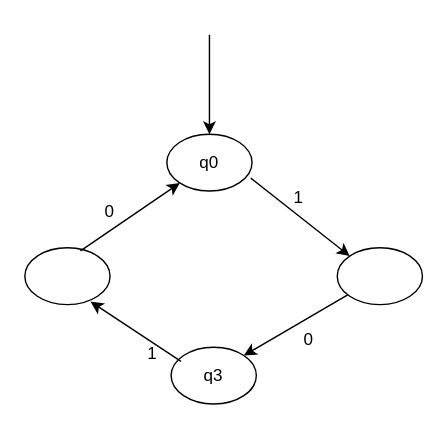
Some shapes in this 447 by 429 pixel diagram are drawn without their labels. Here are the shapes that lost their labels. From the top down, the box of each, then its label:
(23, 246, 110, 305): q2
(336, 246, 422, 305): q1
